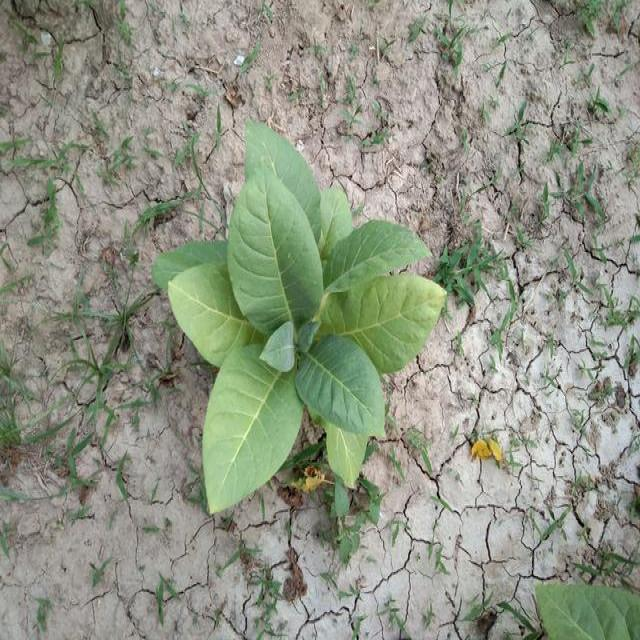crop: (162, 126, 442, 514), (530, 580, 640, 640)
